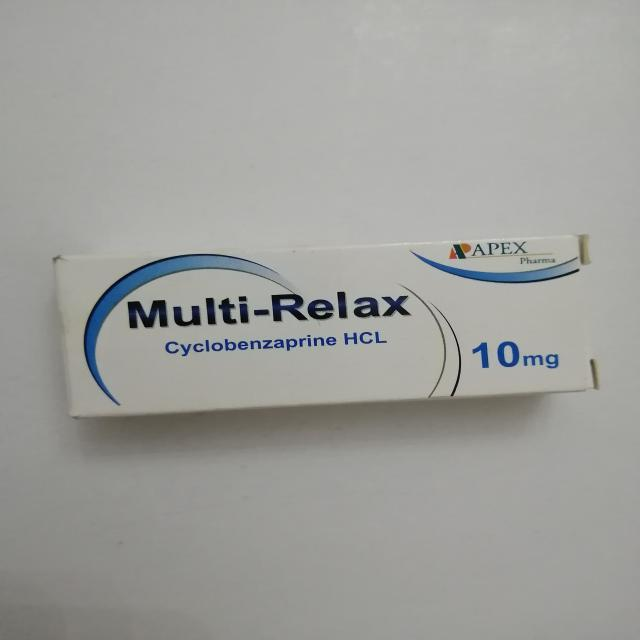Medicine Name: (118, 289, 421, 336)
